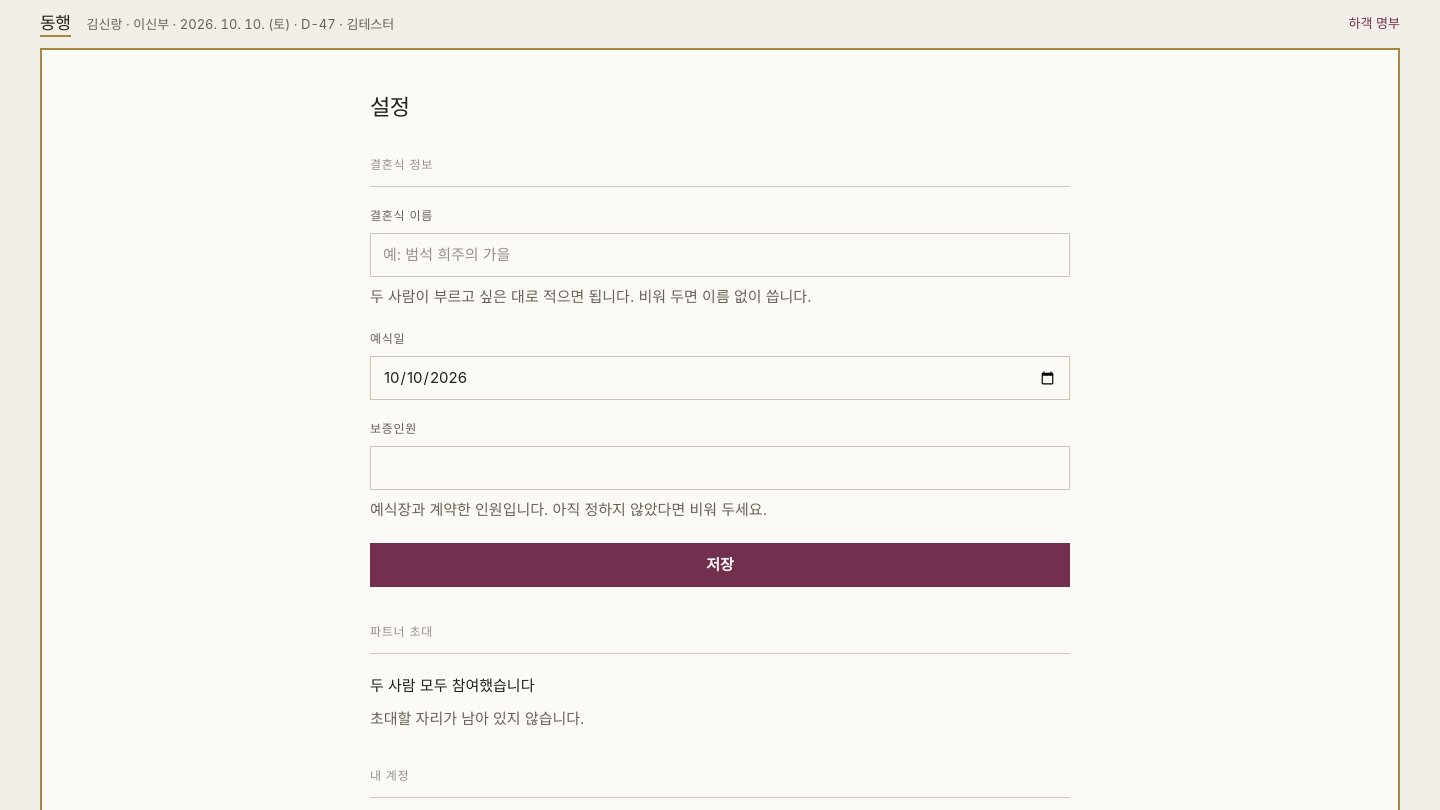
Scenario: carries a saved 결혼식 이름 into the running head above the form
Expected: the text "김신랑 · 이신부 · 2026. 10. 10. (토) · D-47 · 김테스터" is shown, [87,15,394,34]
In the field labelled "결혼식 이름": (720, 255) [370,233,1070,277], type "범석 희주의 가을"
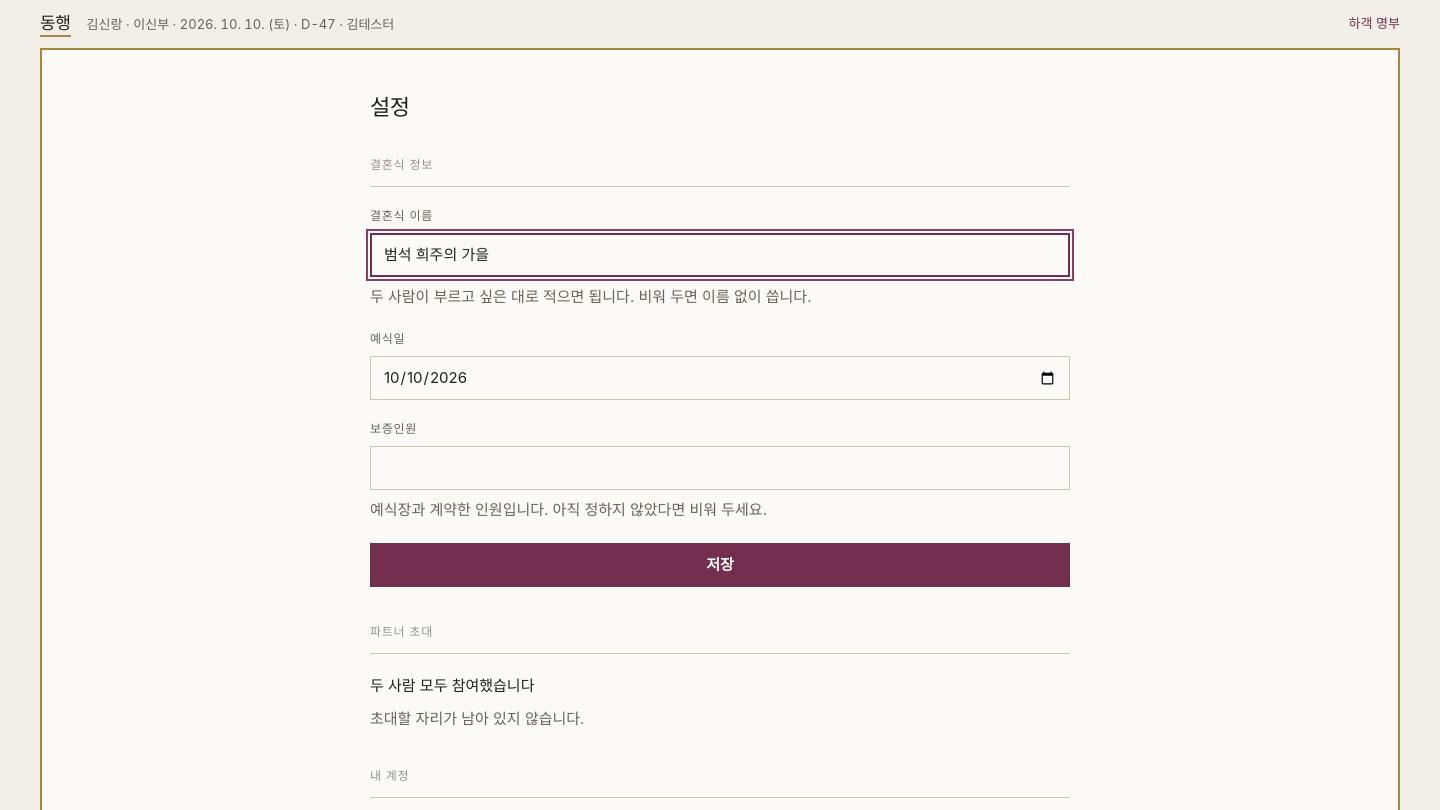
Click the button "저장": (720, 565) [370,543,1070,587]
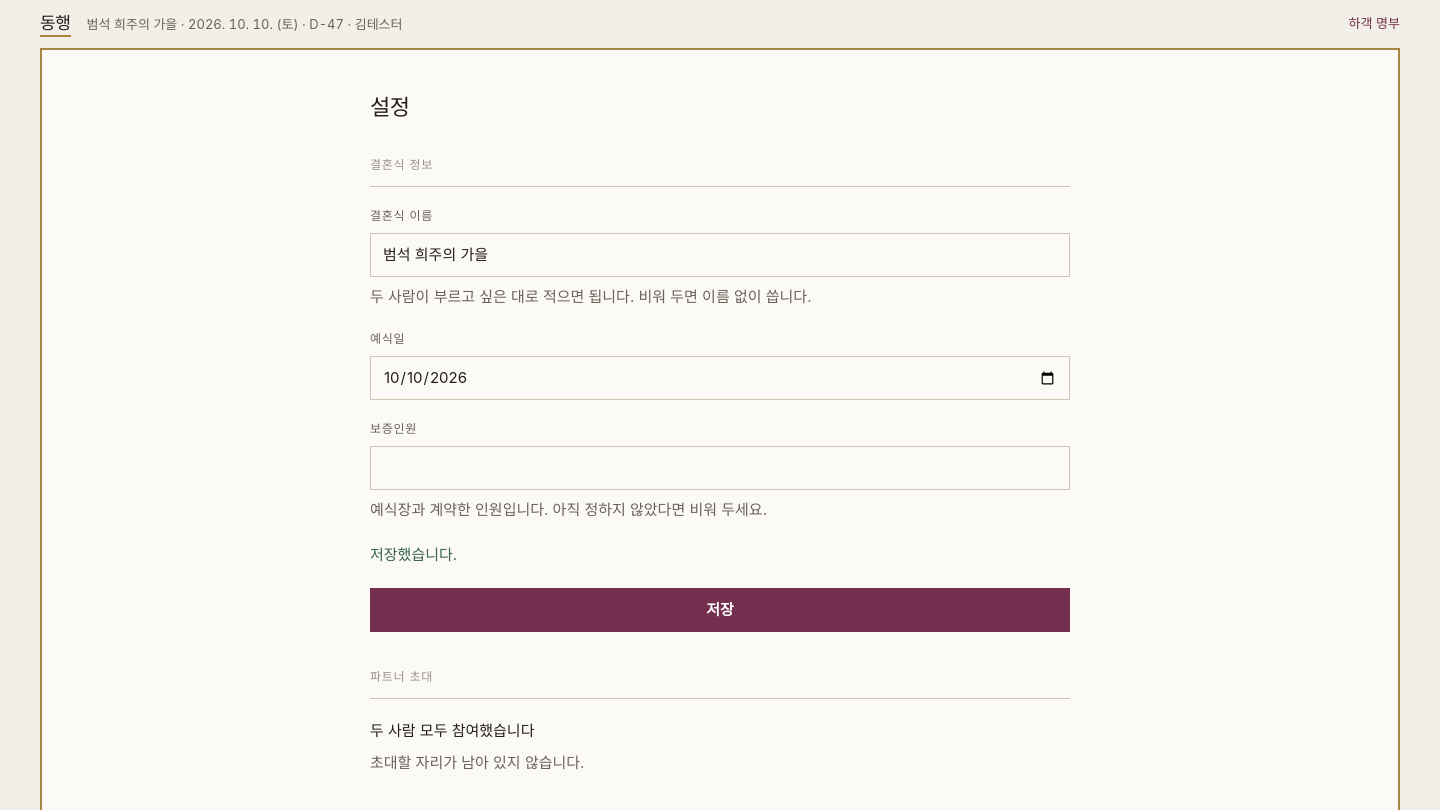
Expected: the text "범석 희주의 가을 · 2026. 10. 10. (토) · D-47 · 김테스터" is shown, [87,15,402,34]
Expected: the text "김신랑 · 이신부" is gone
